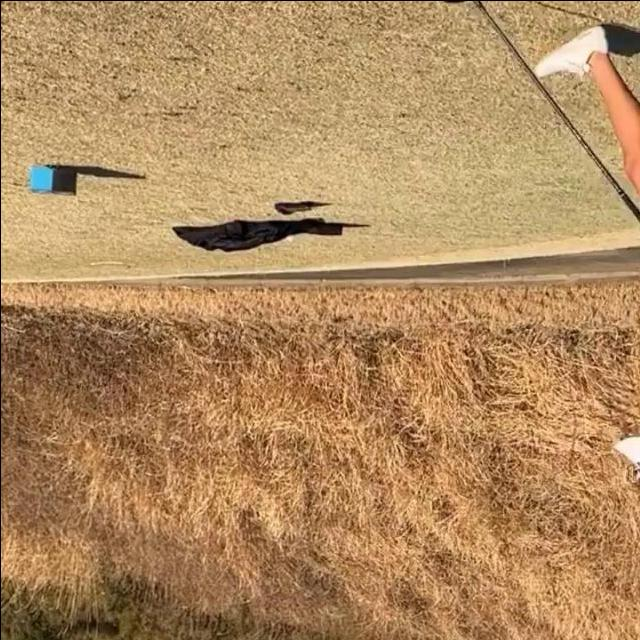golf club-handle: (443, 0, 639, 222)
golf club-head: (444, 0, 466, 6)
